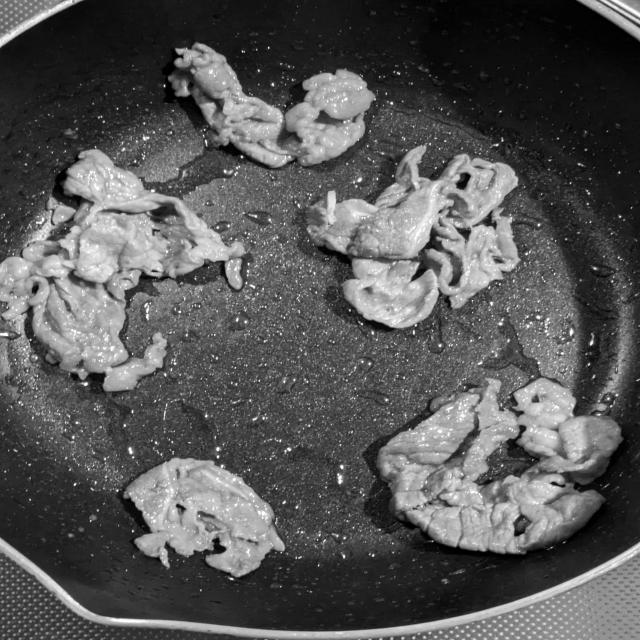OK cooked beef,: (0, 140, 250, 401), (363, 372, 640, 563), (299, 141, 528, 341), (155, 35, 382, 172), (114, 450, 300, 586)
